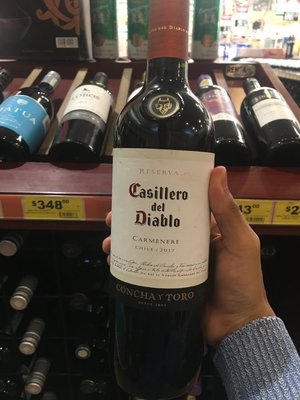casillero del diablo carmenere: (96, 19, 222, 399)
